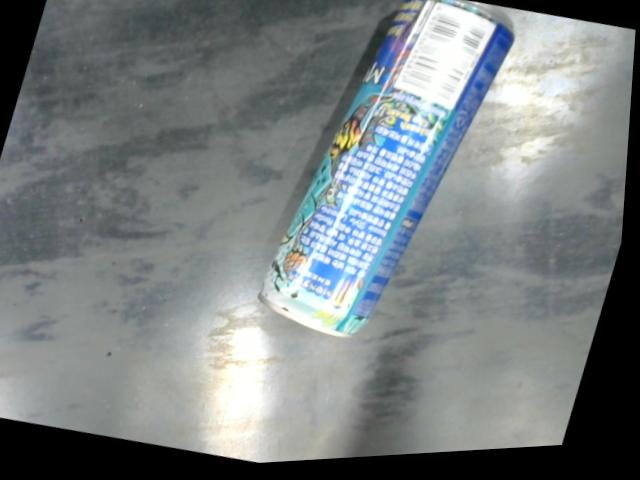can: (258, 0, 517, 346)
